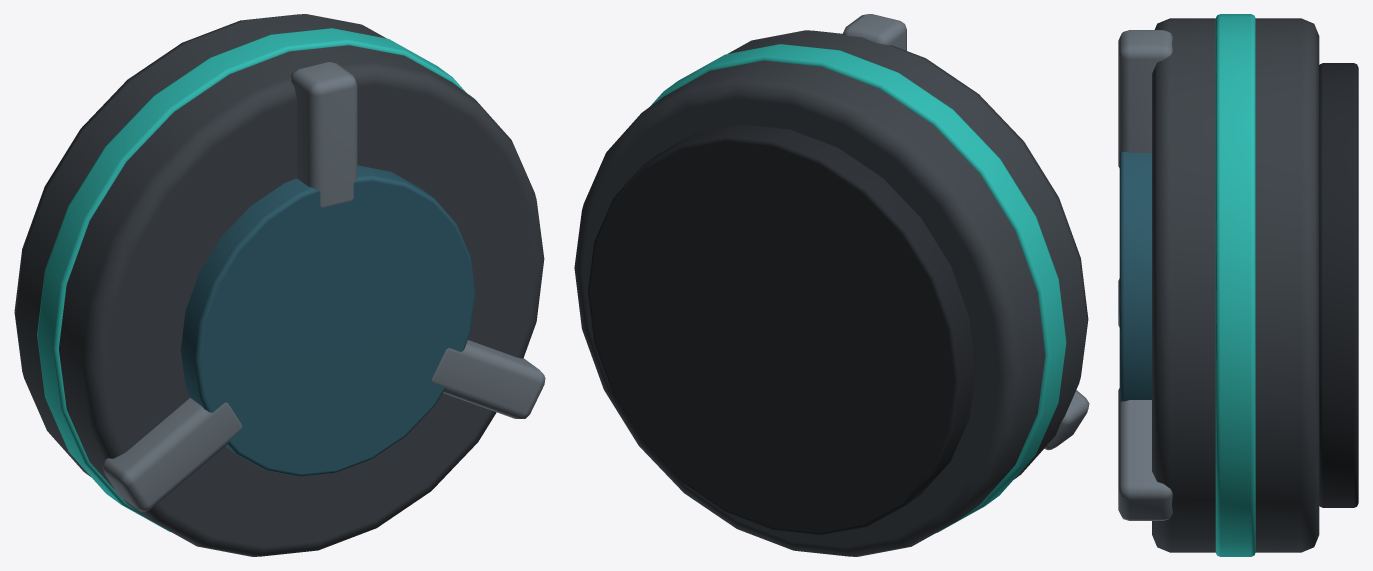
The picture shows the model from 3 angles, left to right: view 1: azimuth 30°, elevation 25°; view 2: azimuth 150°, elevation 25°; view 3: azimuth 270°, elevation 25°; orthographic projection. The views are drawn at different scales.
Parts seen in each view (by area): view 1: R04__Puck, R04__Recessed_sensor, R04__Teal_band, R04__Protective_rib, R04__Protective_rib.002, R04__Protective_rib.001; view 2: R04__Base_pad, R04__Puck, R04__Teal_band, R04__Protective_rib, R04__Protective_rib.002; view 3: R04__Puck, R04__Teal_band, R04__Base_pad, R04__Recessed_sensor, R04__Protective_rib.001, R04__Protective_rib.
Part boxes in pixels (<box>): R04__Puck: <box>14,14,544,556</box>; R04__Recessed_sensor: <box>180,165,475,476</box>; R04__Teal_band: <box>37,28,465,531</box>; R04__Protective_rib: <box>291,62,357,207</box>; R04__Protective_rib.002: <box>102,398,242,511</box>; R04__Protective_rib.001: <box>432,340,545,418</box>; R04__Base_pad: <box>588,124,975,535</box>; R04__Puck: <box>574,30,1088,556</box>; R04__Teal_band: <box>650,44,1066,532</box>; R04__Protective_rib: <box>843,14,906,50</box>; R04__Protective_rib.002: <box>1044,390,1089,450</box>; R04__Puck: <box>1152,18,1319,552</box>; R04__Teal_band: <box>1215,14,1255,556</box>; R04__Base_pad: <box>1319,63,1358,507</box>; R04__Recessed_sensor: <box>1119,151,1151,402</box>; R04__Protective_rib.001: <box>1118,388,1172,520</box>; R04__Protective_rib: <box>1118,30,1172,167</box>.
Size of the model in its own units: 0.244 by 0.2445 by 0.1075.
